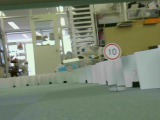speed_10: (101, 42, 123, 61)
